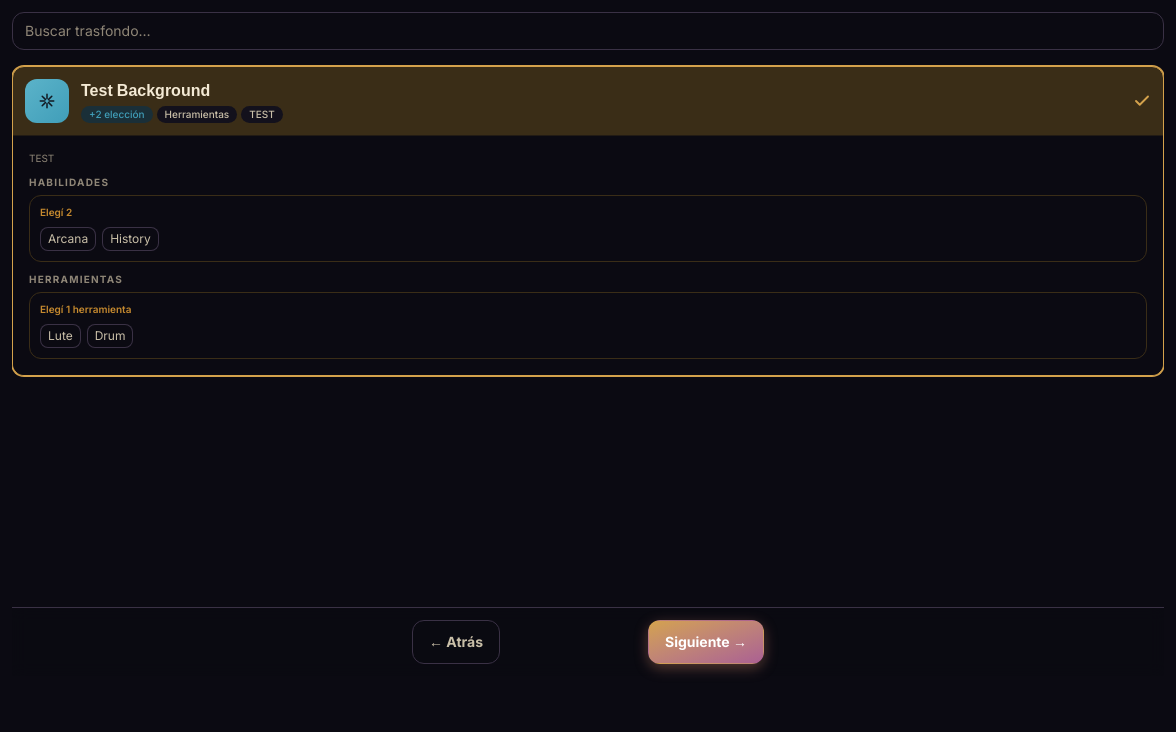
Scenario: BackgroundPicker — toolChoose block renders when non-null › allows picking one option (clicking toggles selection)
Expected: the button "Drum" is enabled, [87,324,134,348]
// Pick lute
Click the button "Lute": (60, 336) [40,324,81,348]
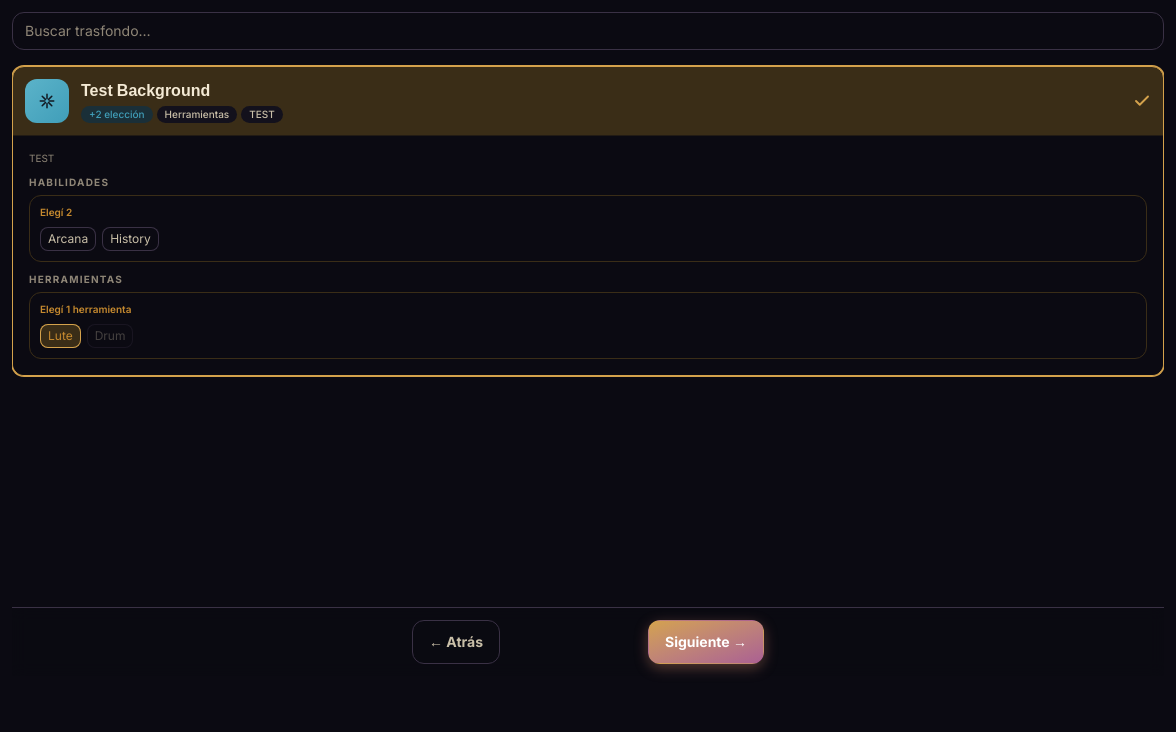
Expected: the button "Drum" is disabled, [87,324,134,348]
